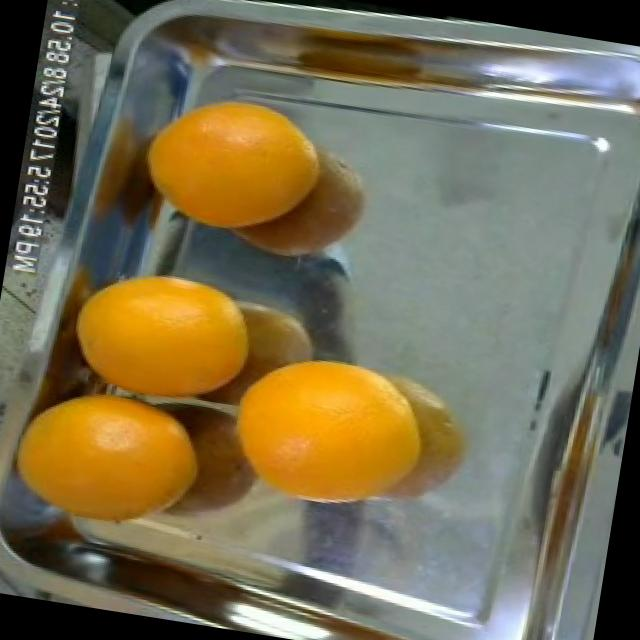Fruit: (43, 241, 290, 421), (112, 72, 352, 256), (0, 369, 224, 556)
